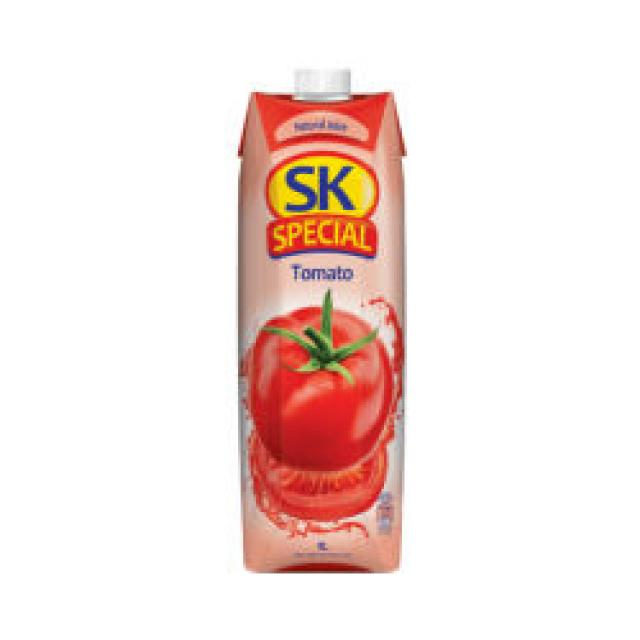non_white_jug: (223, 59, 435, 571)
